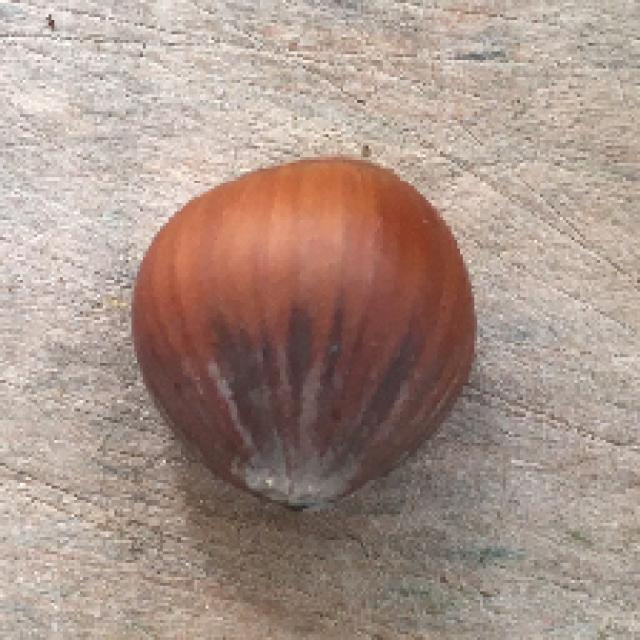DamagedHazelnut: (135, 160, 482, 507)
